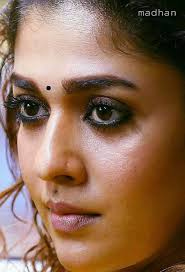indian_female: (9, 1, 160, 271)
